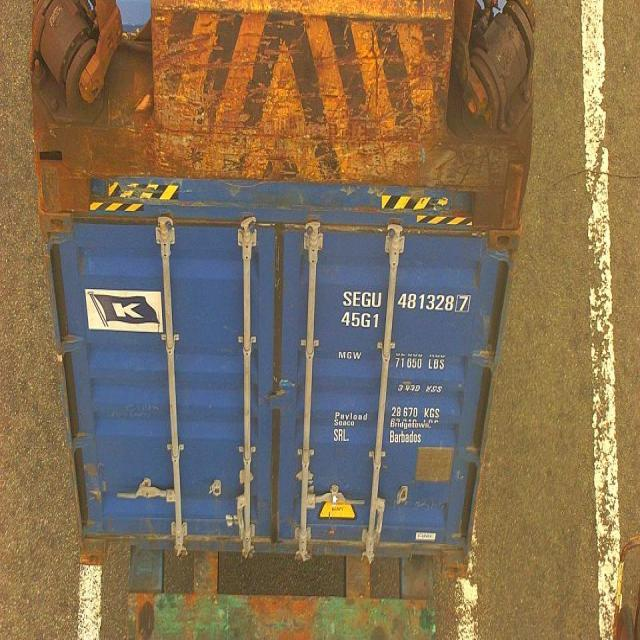ISO: (339, 308, 382, 331)
container_number: (344, 290, 469, 316)
